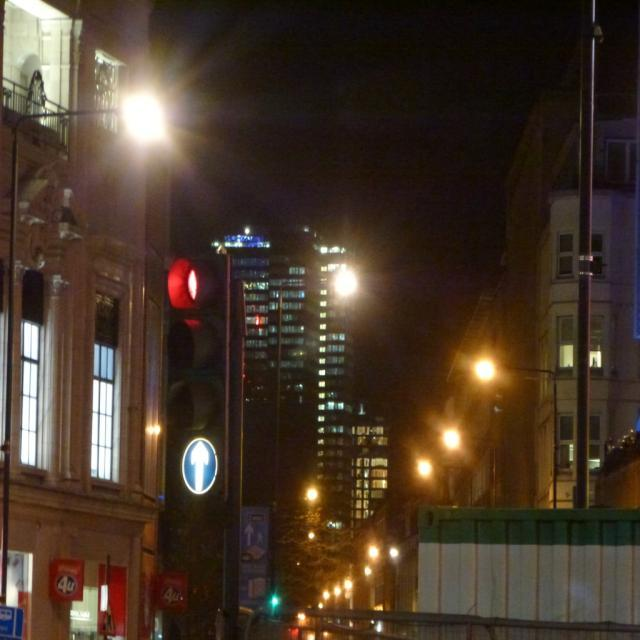traffic light: (169, 253, 225, 435)
